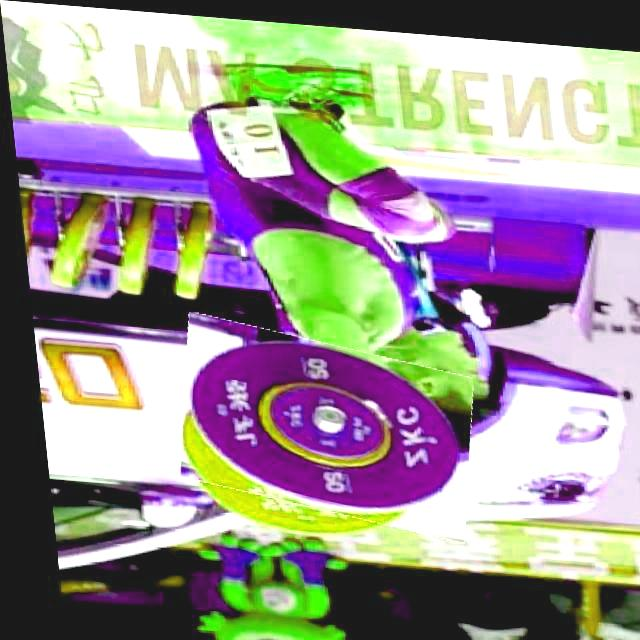barbell: (163, 318, 472, 527)
